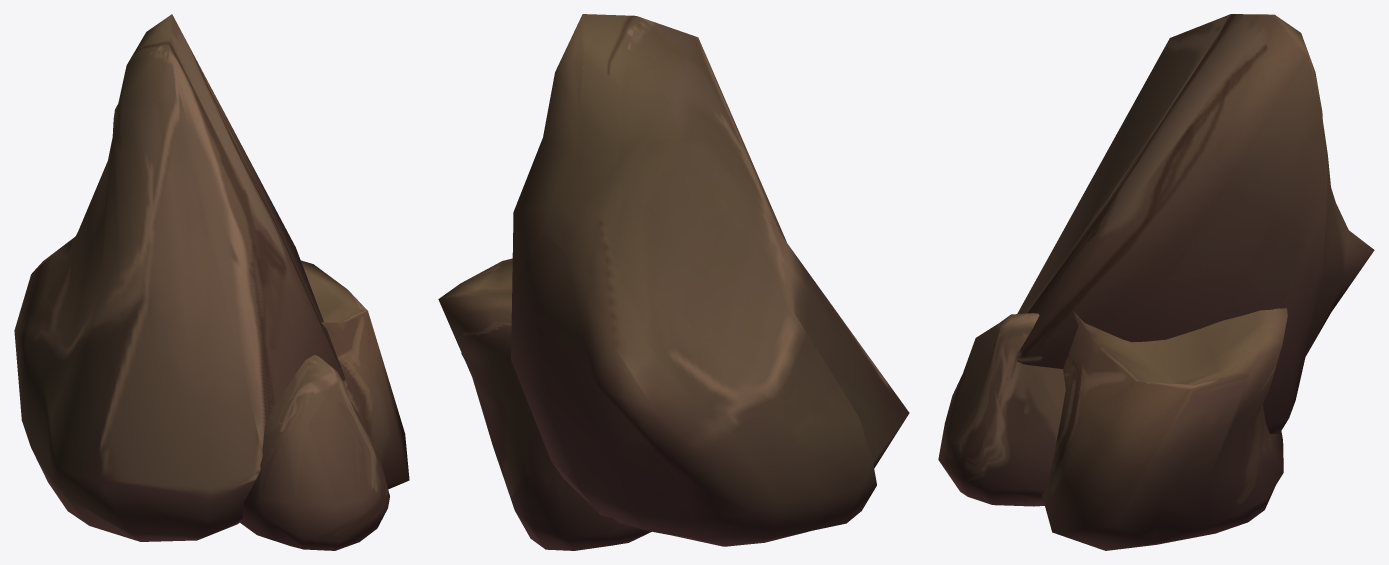
Rendered from Rock004.glb.
3 renders of one model, left to right at view 1: azimuth 30°, elevation 25°; view 2: azimuth 150°, elevation 25°; view 3: azimuth 270°, elevation 25°, orthographic. The views are drawn at different scales.
Visible parts, largest first — view 1: Cube.011; view 2: Cube.011; view 3: Cube.011.
Part boxes in pixels (x1,y1,x2,y2): Cube.011: (14, 14, 409, 550); Cube.011: (438, 14, 909, 550); Cube.011: (938, 14, 1374, 550).
Size of the model in its own units: 0.6548 by 0.8637 by 0.697.
1 material, 1 textured.
